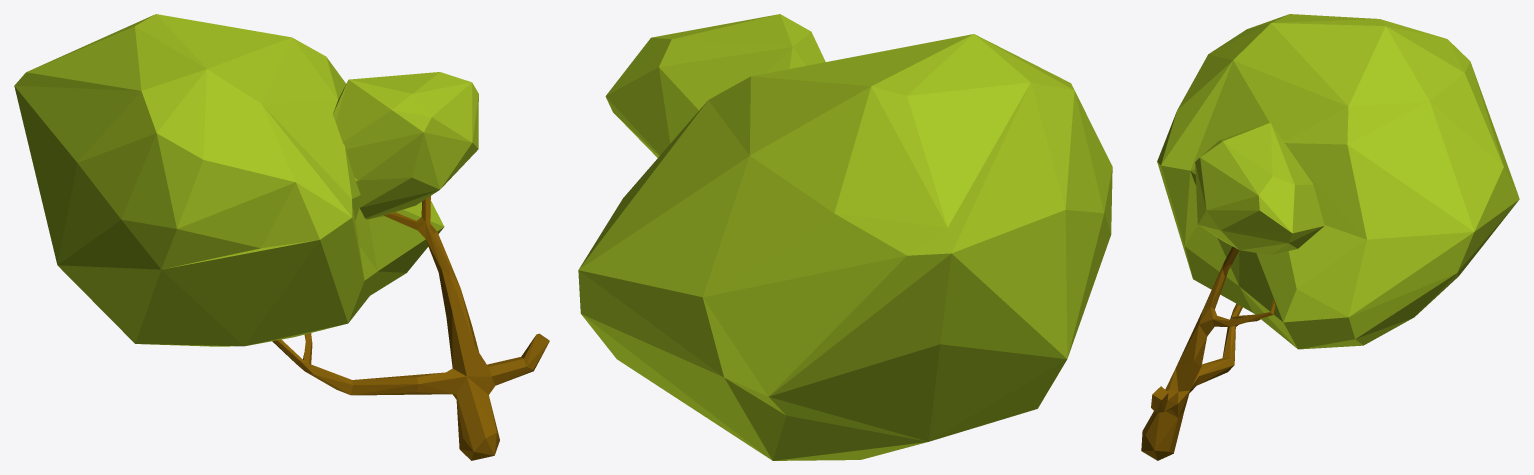
The model's file is Tree1.fbx.
3 views of the same model, side by side, from view 1: azimuth 30°, elevation 25°; view 2: azimuth 150°, elevation 25°; view 3: azimuth 270°, elevation 25° (orthographic). The views are drawn at different scales.
Visible parts, largest first — view 1: Cube.042; view 2: Cube.042; view 3: Cube.042.
Boxes of the visible parts, x1,y1,x2,y2 form: Cube.042: [14, 14, 549, 460]; Cube.042: [578, 14, 1112, 460]; Cube.042: [1141, 14, 1519, 460].
Bounding box in the file's own units: 382 × 371 × 366.
